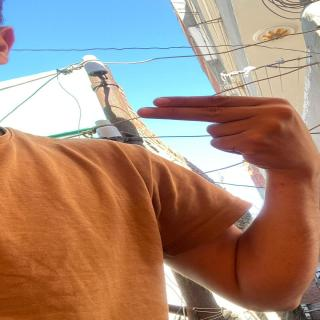AYN: (136, 90, 320, 178)
